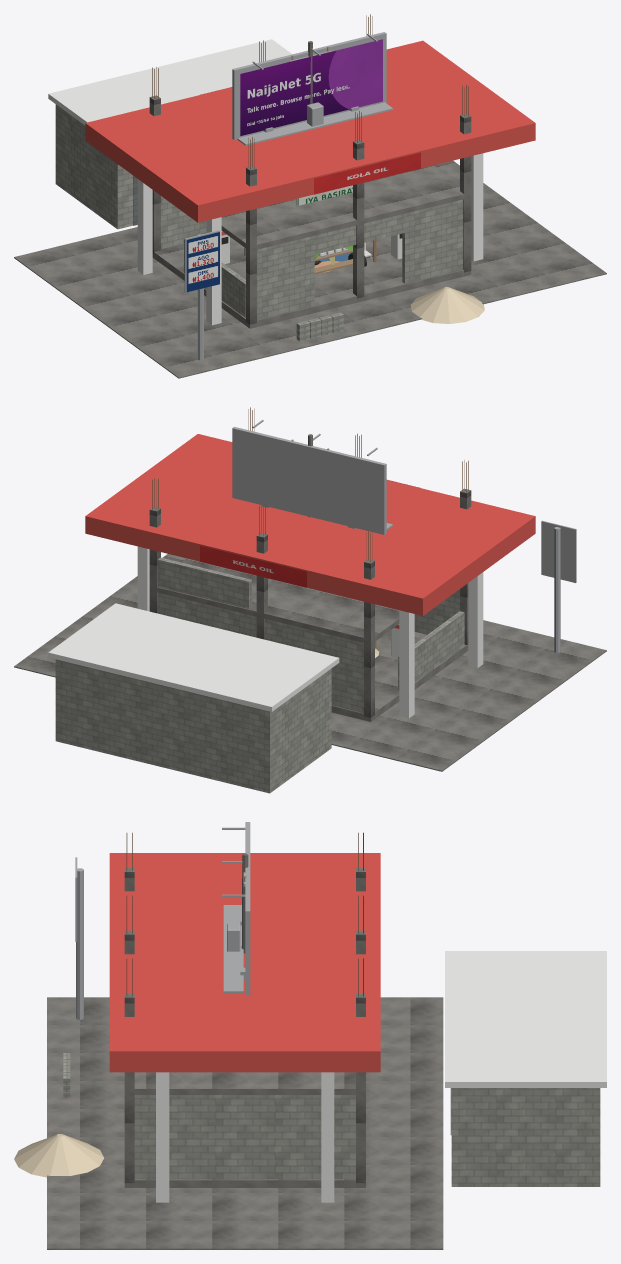
The model's file is roadside.glb.
3 views of the same model, one above another, from view 1: azimuth 30°, elevation 25°; view 2: azimuth 150°, elevation 25°; view 3: azimuth 270°, elevation 25° (orthographic). The views are drawn at different scales.
Visible parts, largest first — view 1: proto_station, proto_unfinished, proto_billboard_network, proto_buka, proto_power_pole; view 2: proto_station, proto_unfinished, proto_billboard_network; view 3: proto_station, proto_unfinished, proto_billboard_network, proto_power_pole.
Boxes of the visible parts, x1=… form: proto_station: x1=14, y1=39, x2=606, y2=378; proto_unfinished: x1=149, y1=14, x2=484, y2=341; proto_billboard_network: x1=232, y1=32, x2=393, y2=145; proto_buka: x1=244, y1=185, x2=376, y2=274; proto_power_pole: x1=289, y1=41, x2=332, y2=126; proto_station: x1=14, y1=434, x2=606, y2=793; proto_unfinished: x1=149, y1=407, x2=471, y2=721; proto_billboard_network: x1=232, y1=420, x2=393, y2=534; proto_station: x1=47, y1=853, x2=606, y2=1249; proto_unfinished: x1=14, y1=832, x2=365, y2=1187; proto_billboard_network: x1=222, y1=822, x2=250, y2=995; proto_power_pole: x1=227, y1=853, x2=248, y2=953.
Bounding box in the file's own units: 18 × 9.66 × 17.95.
Materials: 38 (14 with a texture image).
